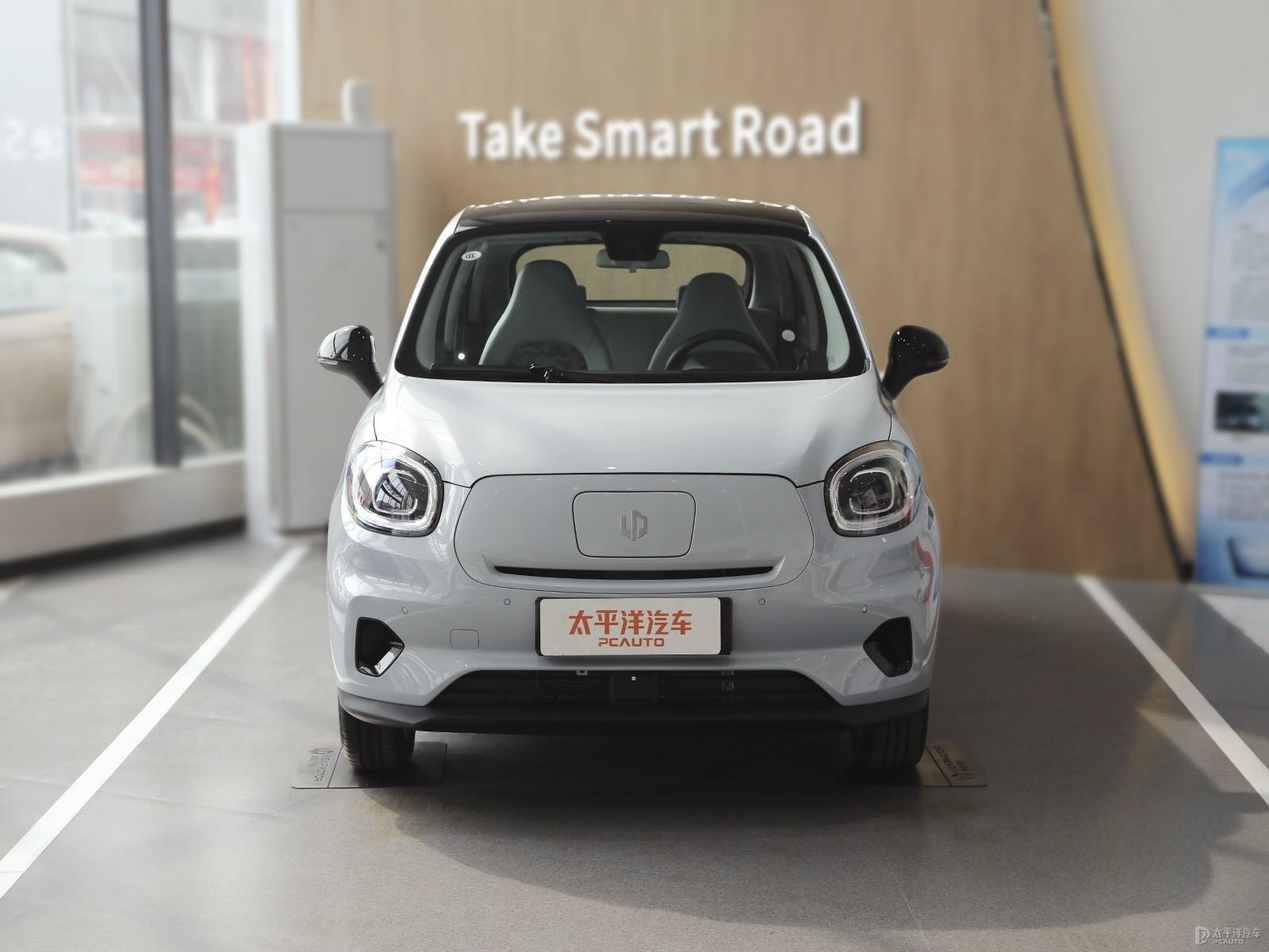LEAPMOTOR: (619, 507, 648, 542)
